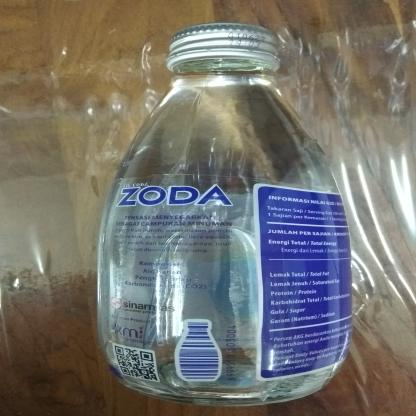bottle: (89, 19, 364, 409)
